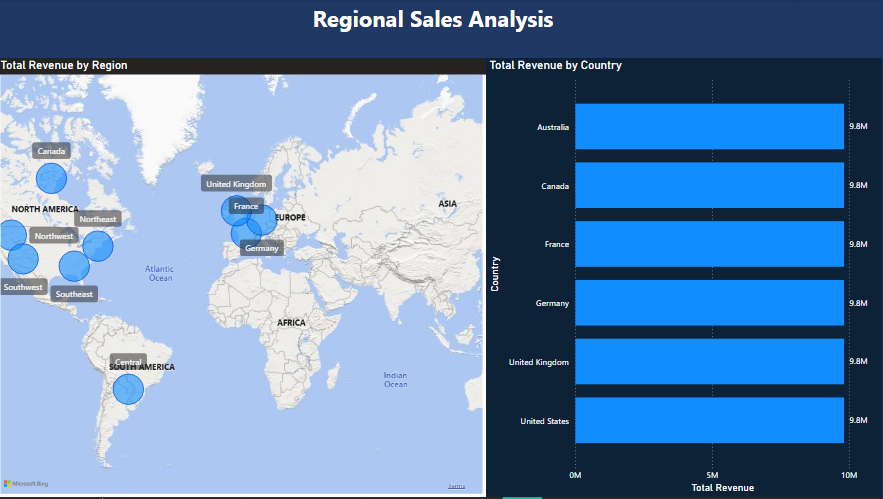

Layout of this report page (visuals, bound fields, positions):
{"tool":"powerbi","page":{"name":"Regional Map","canvas":[1280,720],"ordinal":1},"visuals":[{"type":"map","fields":{"Category":["AdventureWorks_Territories.Region"],"Size":["Measures (5).Total Revenue"]},"box":[0,85.3,707,634.7],"z":0},{"type":"clusteredBarChart","fields":{"Category":["AdventureWorks_Territories.Country"],"Y":["Measures (5).Total Revenue"]},"box":[707,85.3,572.5,634.7],"z":1000},{"type":"textbox","box":[99.8,0,1061.2,85.3],"z":1001}]}

Visuals, with their boxes in screenshot pixels (x1, y1, x2, y2), scaled from the page's 1280x720 canvas onto the 883x499 screenshot:
map - AdventureWorks_Territories.Region x Measures (5).Total Revenue: [0, 59, 488, 498]
clusteredBarChart - AdventureWorks_Territories.Country x Measures (5).Total Revenue: [488, 59, 882, 498]
textbox: [69, 0, 801, 59]
